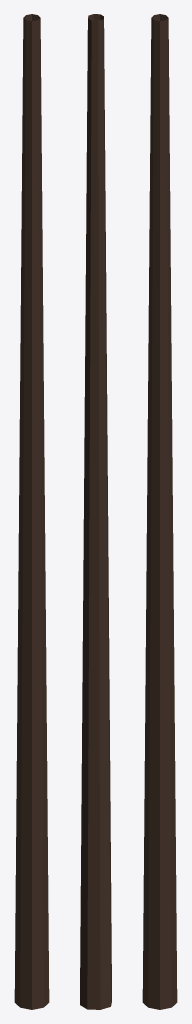
The model's file is Mast_Collision.fbx.
The picture shows the model from 3 angles, left to right: view 1: azimuth 90°, elevation 25°; view 2: azimuth 150°, elevation 25°; view 3: azimuth 270°, elevation 25°; orthographic projection.
Parts seen in each view (by area): view 1: Mast_Collision; view 2: Mast_Collision; view 3: Mast_Collision.
Part boxes in pixels (box(x1,y1,x2,y2)): Mast_Collision: box(14, 14, 49, 1009); Mast_Collision: box(80, 14, 111, 1009); Mast_Collision: box(142, 14, 177, 1009).
Size of the model in its own units: 94.51 by 2971 by 94.51.
